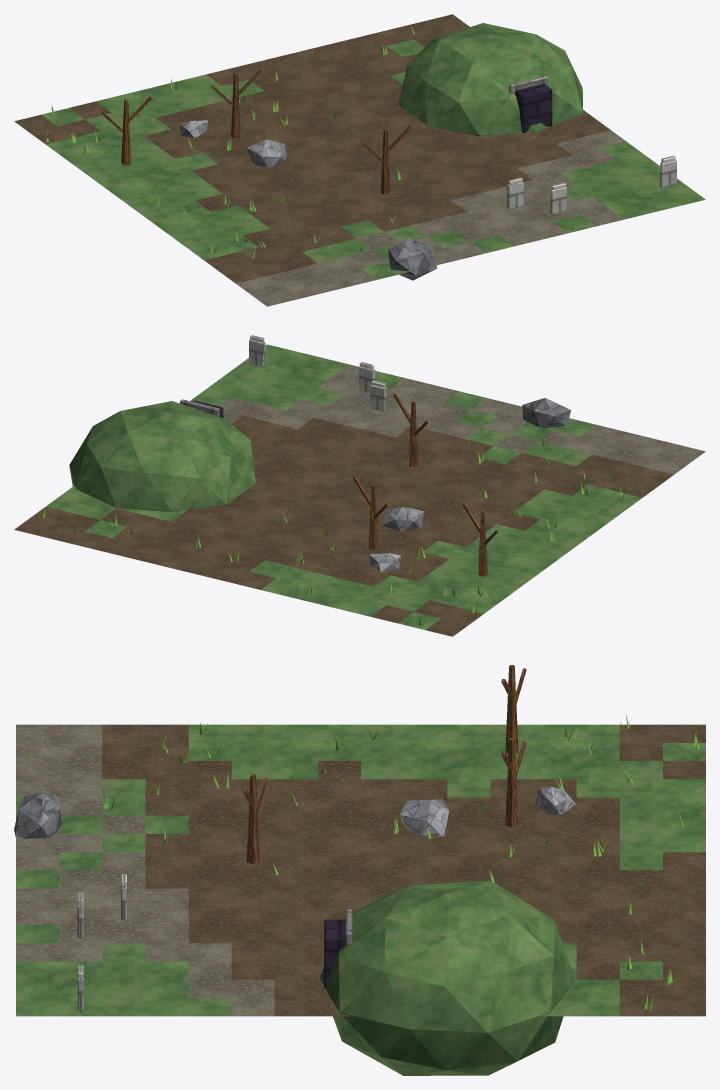
File: chunk_0_21.glb
3 views of the same model, one above another, from view 1: azimuth 30°, elevation 25°; view 2: azimuth 150°, elevation 25°; view 3: azimuth 270°, elevation 25° (orthographic). The views are drawn at different scales.
Visible parts, largest first — view 1: chunk_0_21; view 2: chunk_0_21; view 3: chunk_0_21.
Boxes of the visible parts, x1,y1,x2,y2 form: chunk_0_21: (14, 14, 705, 306); chunk_0_21: (14, 335, 705, 636); chunk_0_21: (14, 665, 705, 1075).
Size of the model in its own units: 16.91 by 4.43 by 16.05.
11 materials, 10 textured.
